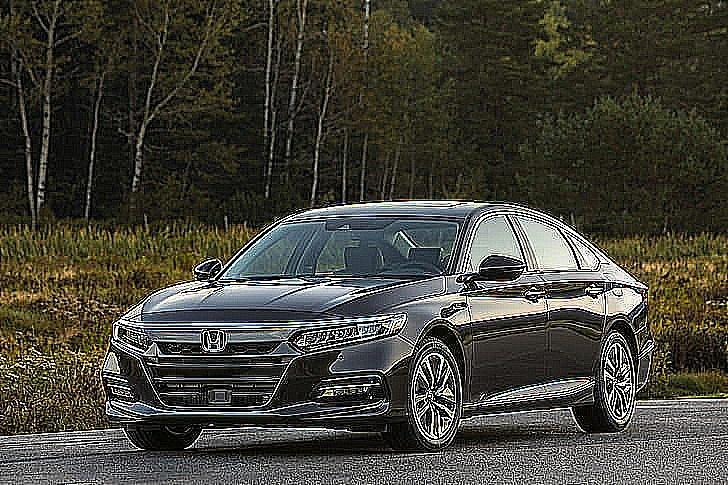Car hood: (121, 272, 448, 329)
Fender - -F-L-: (375, 270, 473, 409)
Fender - -R-L-: (595, 262, 641, 398), (632, 275, 653, 311)
Front bumper: (95, 339, 420, 430)
Headlight - -L-: (287, 310, 409, 355)
Headlight - -R-: (106, 318, 156, 356)
Passenger-s door - -F-L-: (468, 205, 550, 407)
Passenger-s door - -R-L-: (525, 203, 607, 407)
Rear bumper: (629, 332, 660, 399)
Side mirror - -L-: (462, 252, 531, 290)
Side mirror - -R-: (187, 254, 226, 290)
